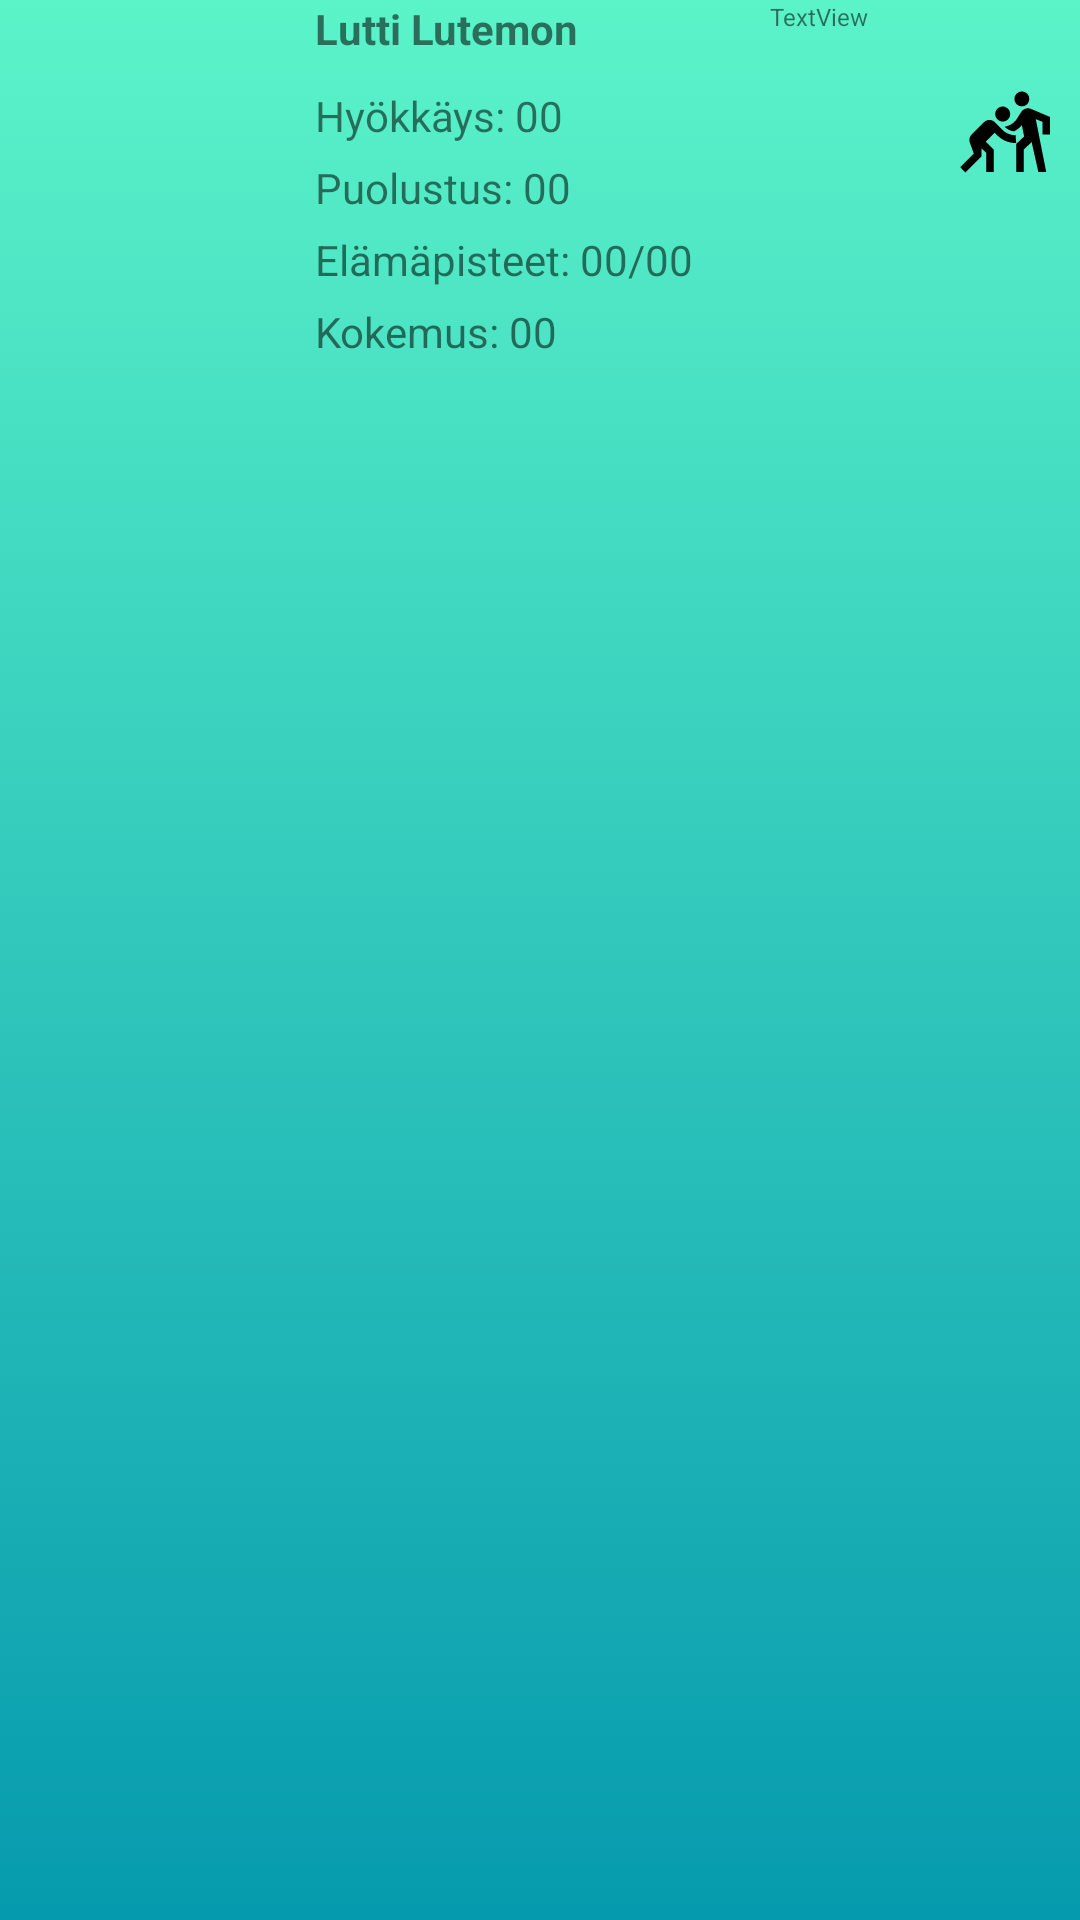

Named icons in this screenshot (1080 × 1920) and their bounding boxes, (x1, y1, x2, y2):
fight: (960, 91, 1050, 173)
